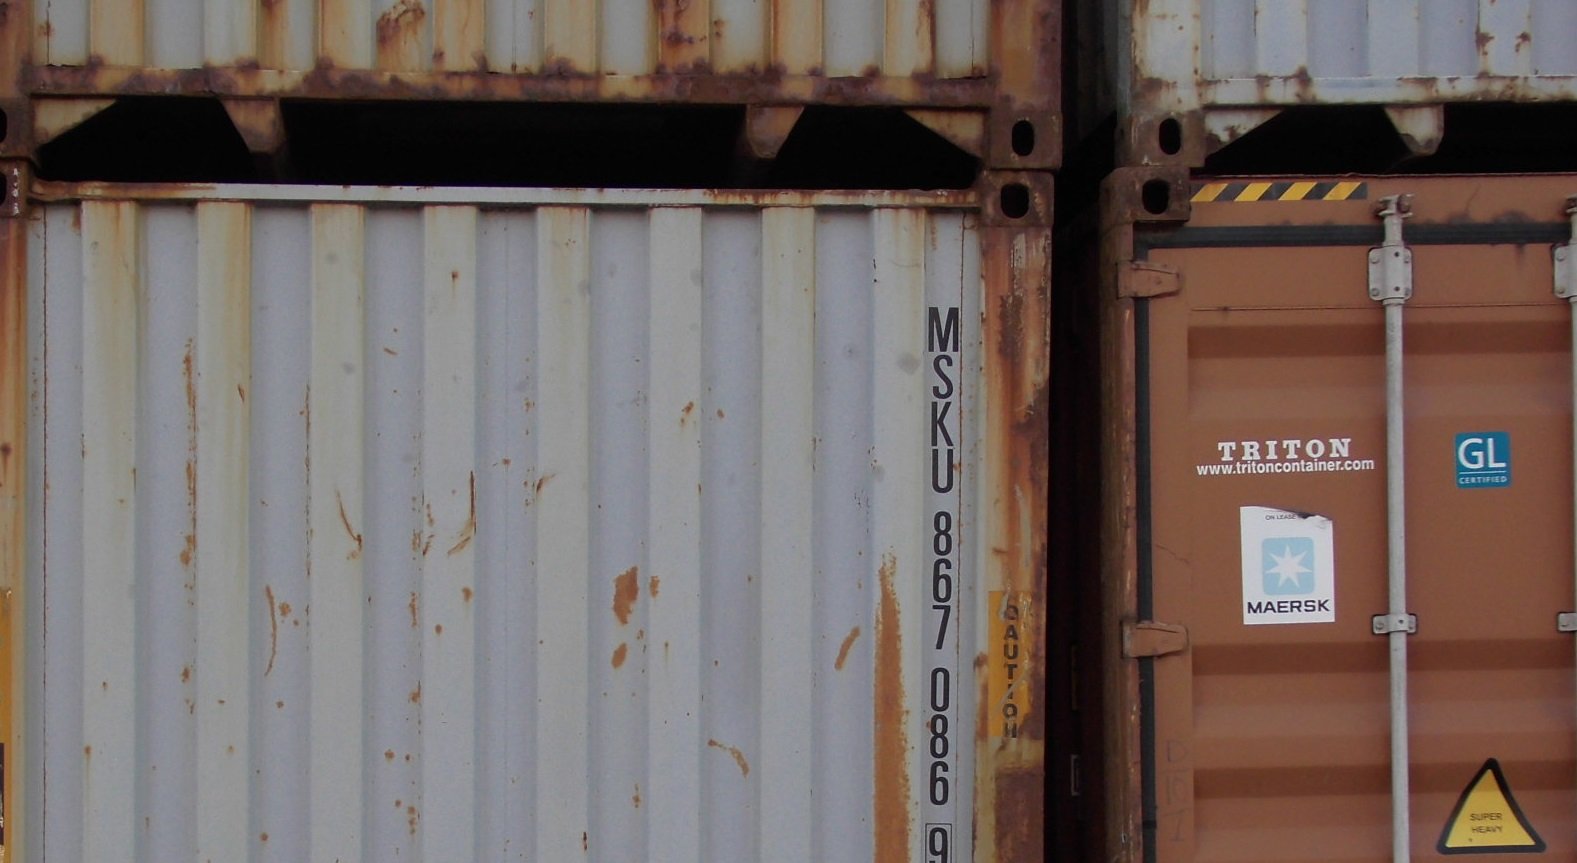container_door: (1118, 165, 1572, 856)
container_no_door: (4, 165, 1038, 851)
